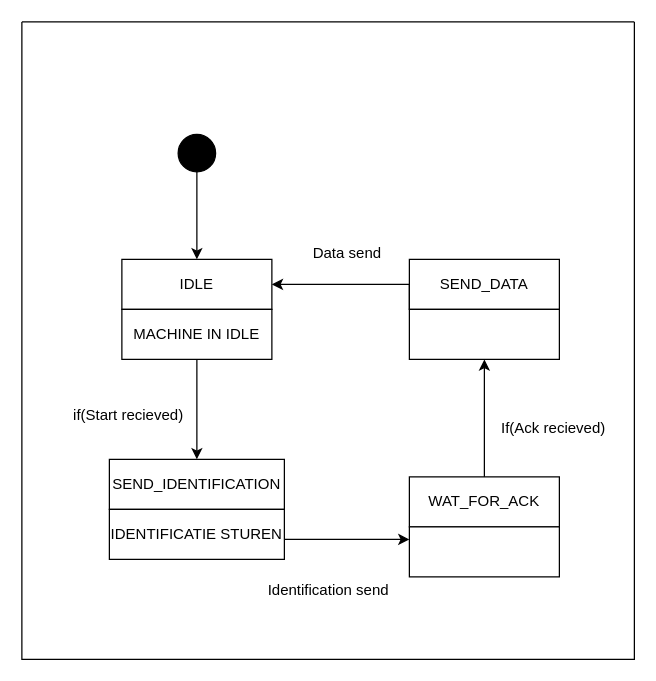
The diagram is 656 pixels wide and 681 high, and some of its shapes have lost their labels. The shapes that lost their labels are listed below. From the top down, each one's centre as x and y in pixels, then its label:
point 483,333: VERSTUREN VAN DE DATA
point 483,551: WACHTEN OP ACK
